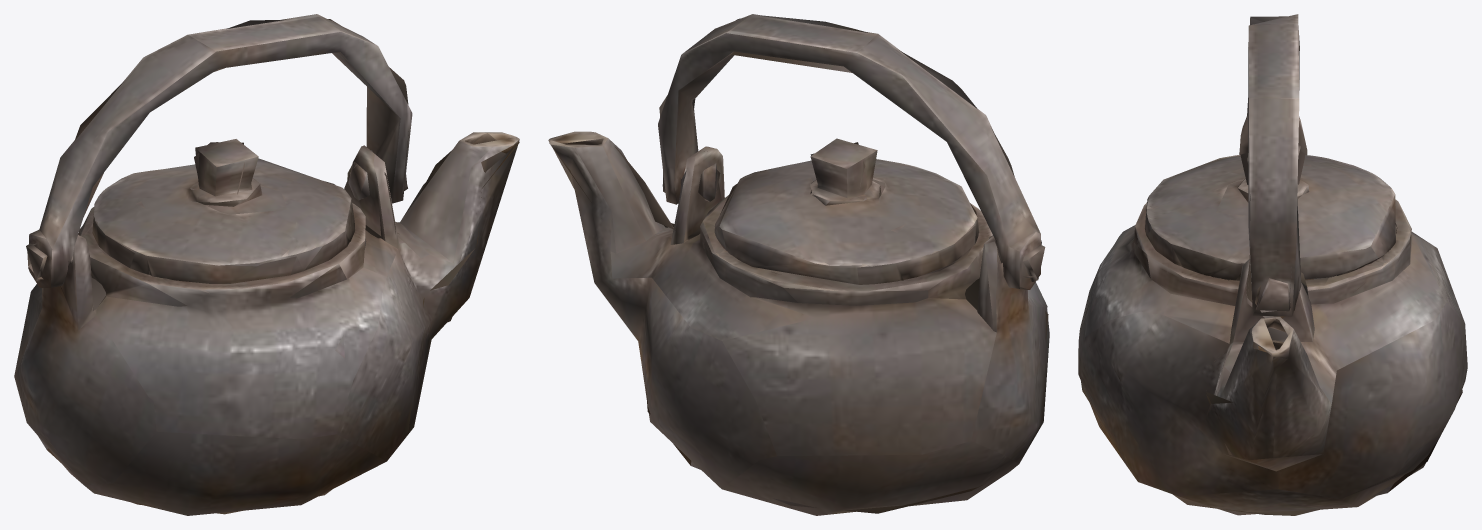
3 views of the same model, side by side, from view 1: azimuth 30°, elevation 25°; view 2: azimuth 150°, elevation 25°; view 3: azimuth 270°, elevation 25° (orthographic).
Visible parts, largest first — view 1: geometry_0; view 2: geometry_0; view 3: geometry_0.
Boxes of the visible parts, x1,y1,x2,y2 form: geometry_0: (14,14,519,515); geometry_0: (548,14,1049,515); geometry_0: (1078,14,1467,515).
Bounding box in the file's own units: 0.269 × 0.2264 × 0.1864.
Materials: 1 (1 with a texture image).
